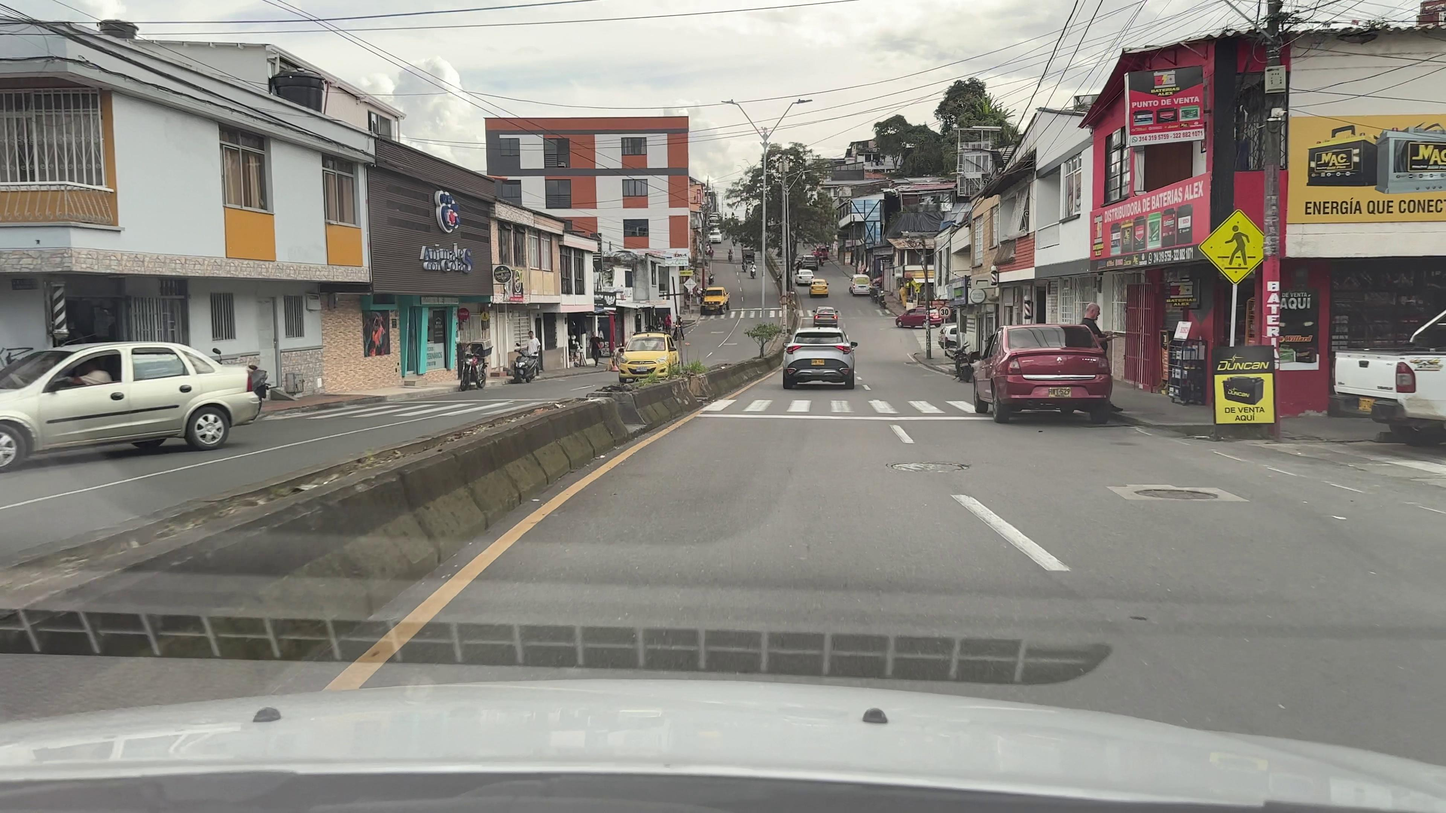registro: (1135, 489, 1217, 500), (893, 462, 968, 472)
rejilla: (1183, 436, 1246, 443)
